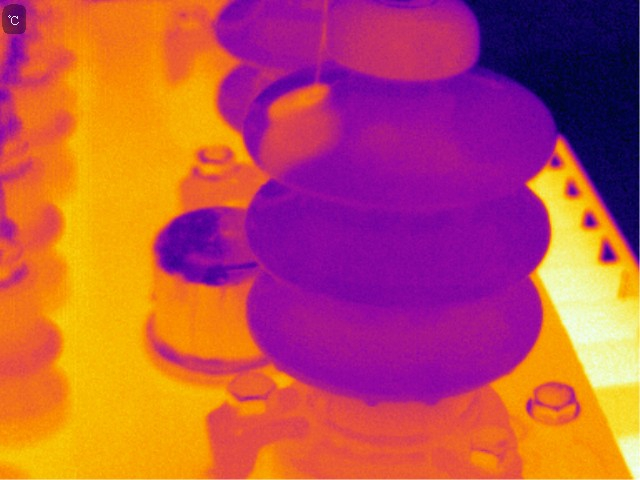Oil: (323, 4, 481, 84), (261, 80, 339, 170), (365, 121, 472, 172), (259, 192, 306, 212), (362, 391, 383, 410), (422, 393, 444, 409), (274, 356, 289, 375), (311, 66, 326, 85)
